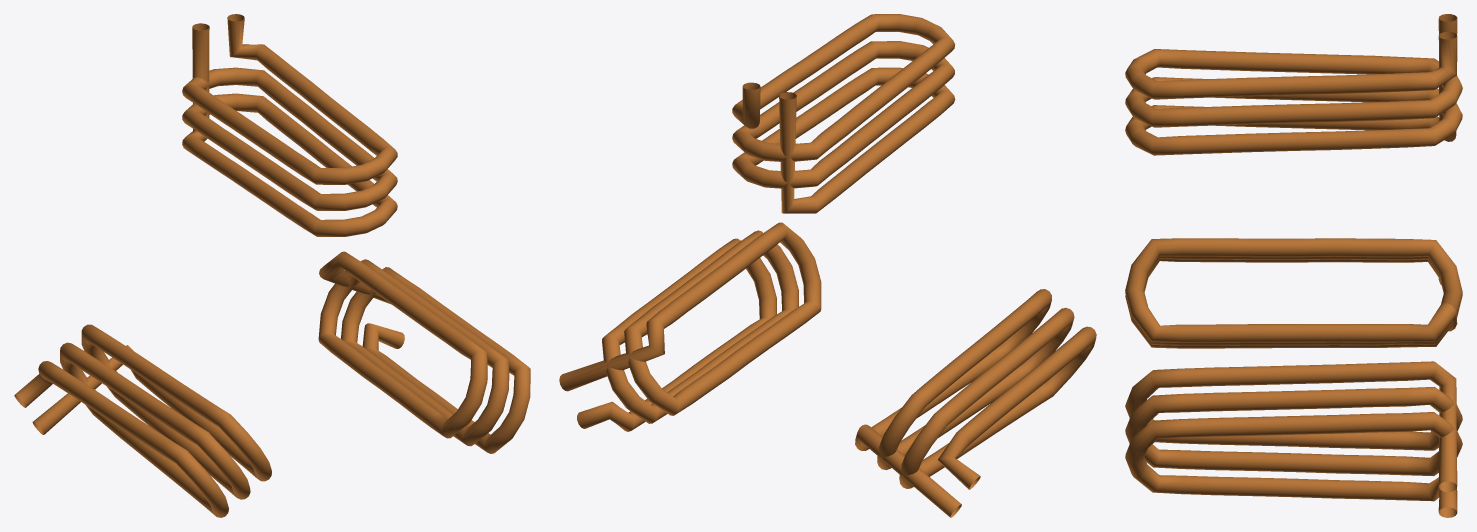
The model's file is DCblCoil10.glb.
The picture shows the model from 3 angles, left to right: view 1: azimuth 30°, elevation 25°; view 2: azimuth 150°, elevation 25°; view 3: azimuth 270°, elevation 25°; orthographic projection. The views are drawn at different scales.
Parts seen in each view (by area): view 1: Spiral.004, Spiral.002, Spiral.001; view 2: Spiral.004, Spiral.002, Spiral.001; view 3: Spiral.001, Spiral.004, Spiral.002.
Part boxes in pixels (bbox=[...]): Spiral.004: bbox=[182, 14, 397, 236]; Spiral.002: bbox=[14, 324, 271, 517]; Spiral.001: bbox=[318, 251, 530, 453]; Spiral.004: bbox=[732, 14, 955, 213]; Spiral.002: bbox=[855, 289, 1096, 517]; Spiral.001: bbox=[559, 222, 821, 431]; Spiral.001: bbox=[1125, 361, 1462, 517]; Spiral.004: bbox=[1125, 14, 1462, 155]; Spiral.002: bbox=[1125, 238, 1462, 348].
Bounding box in the file's own units: 6.93 × 6.07 × 4.66.
